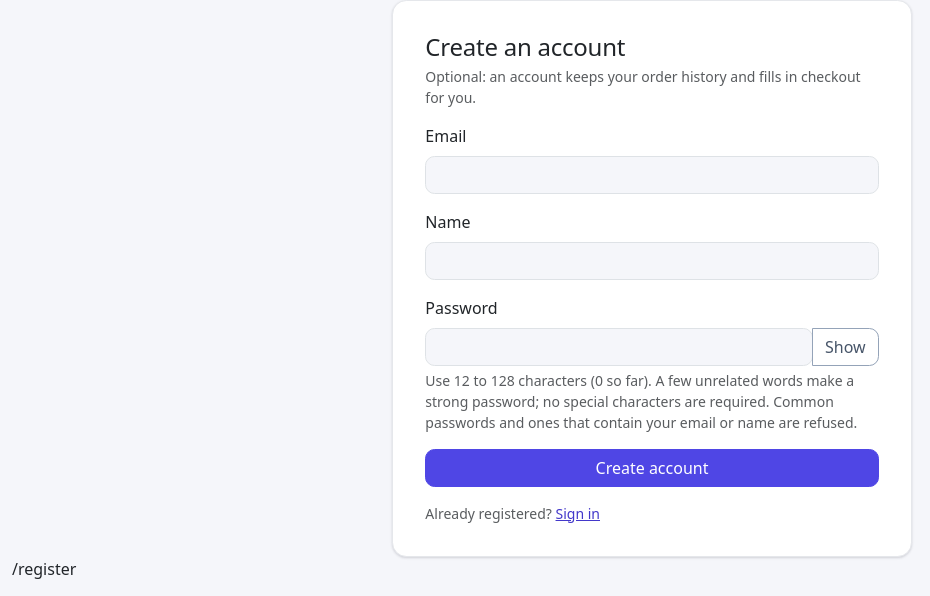
Test: RegisterPage › counts an emoji as one character, like the server, and can show the password
The width and height of the screenshot is (930, 596).
Type "żółw 🐢" into the password field labelled "Password" at (619, 347), box x1=425 y1=328 x2=813 y2=366
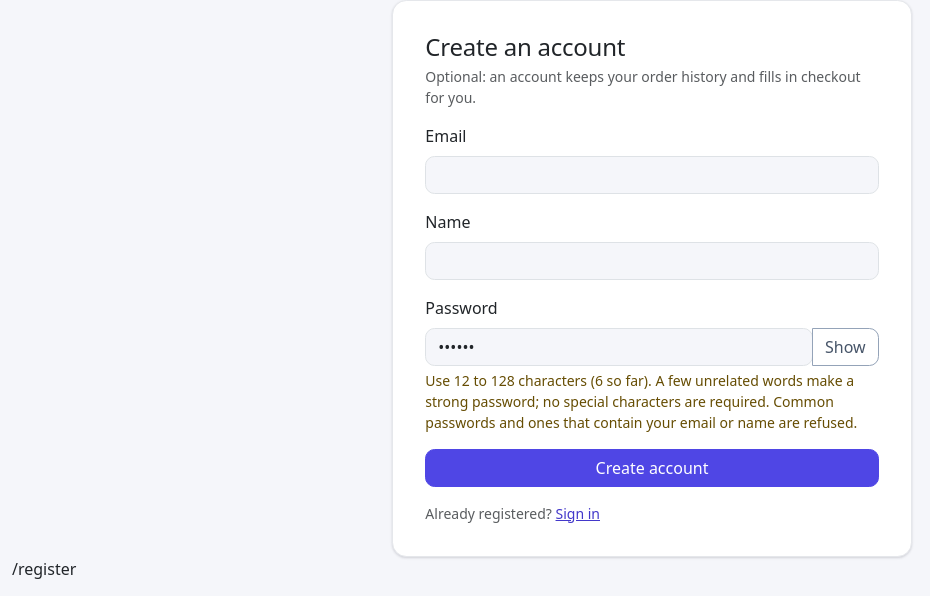
Now the text "(6 so far)" is shown, box x1=425 y1=370 x2=879 y2=433
Click the button "Show" at (845, 347), box x1=812 y1=328 x2=879 y2=366
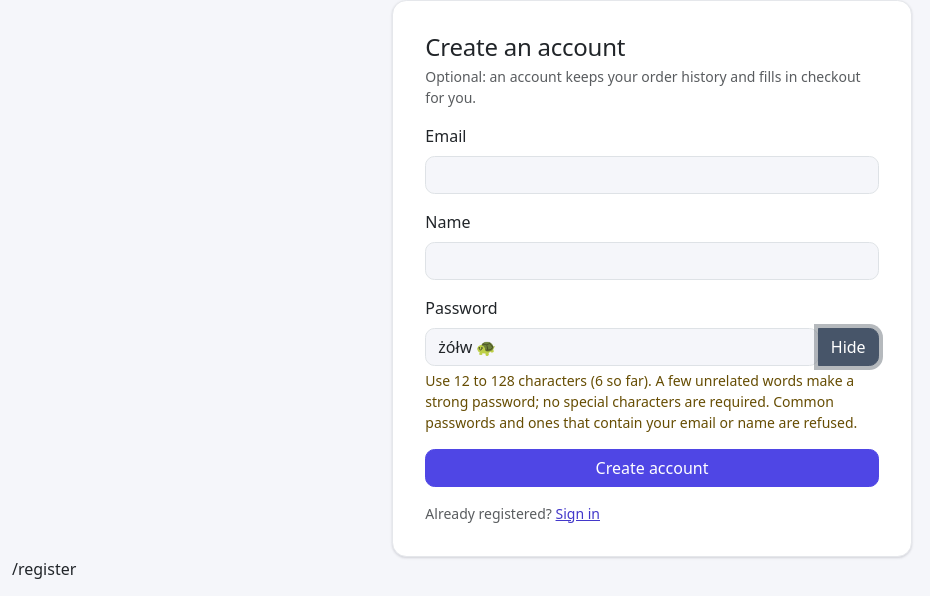
Now the field labelled "Password" shows its text, box x1=425 y1=328 x2=819 y2=366
